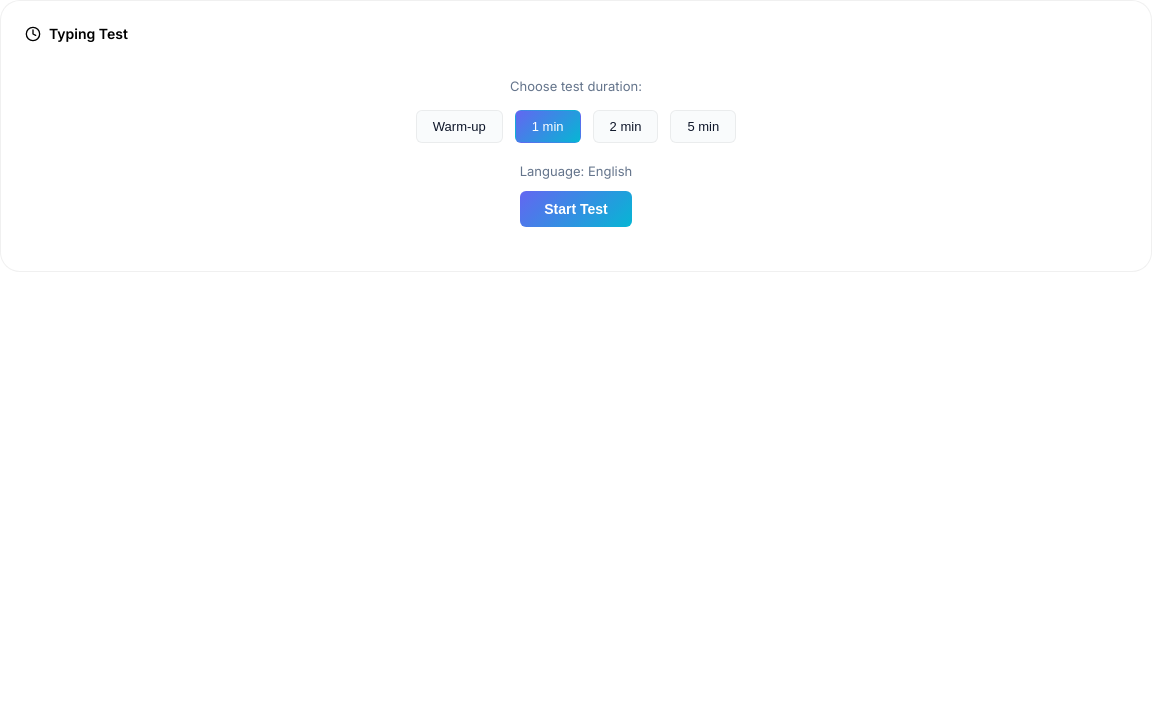
Test: TypingTest Integration › test execution › shows keyboard after starting
Click the button "Start Test".
click(576, 209)  # box top-left (520, 191), bottom-right (632, 227)
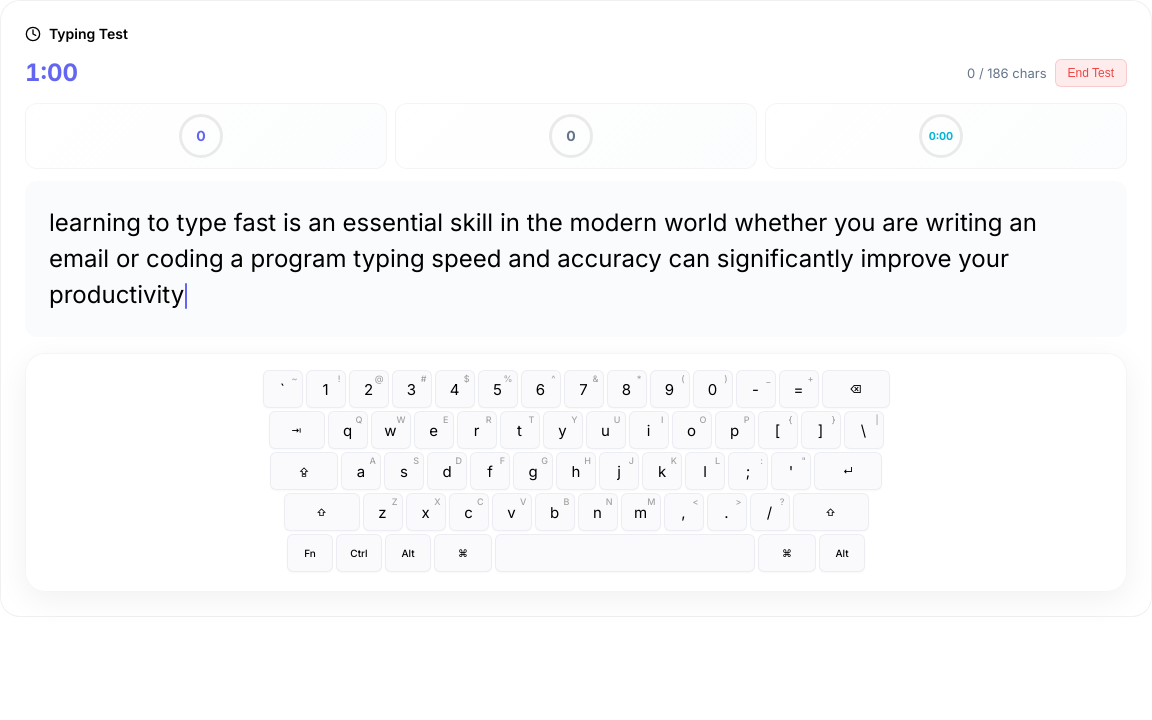
Expected: the text "q" is shown, top-left (343, 422), bottom-right (352, 438)
